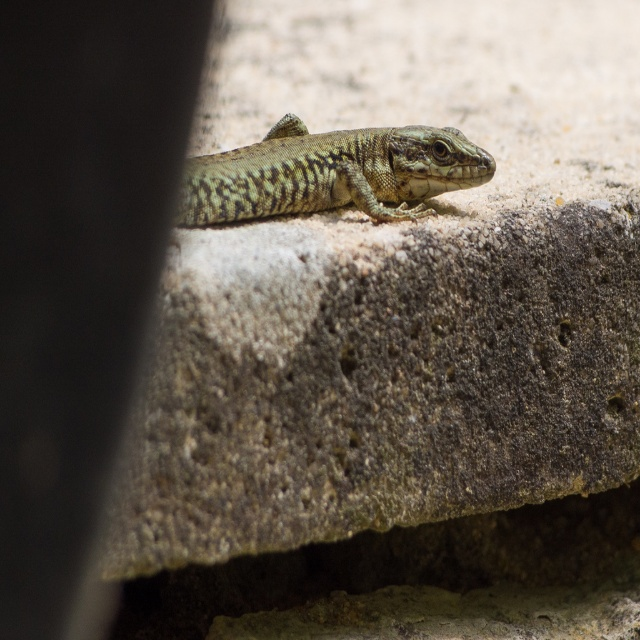Lizard: (179, 116, 501, 249)
